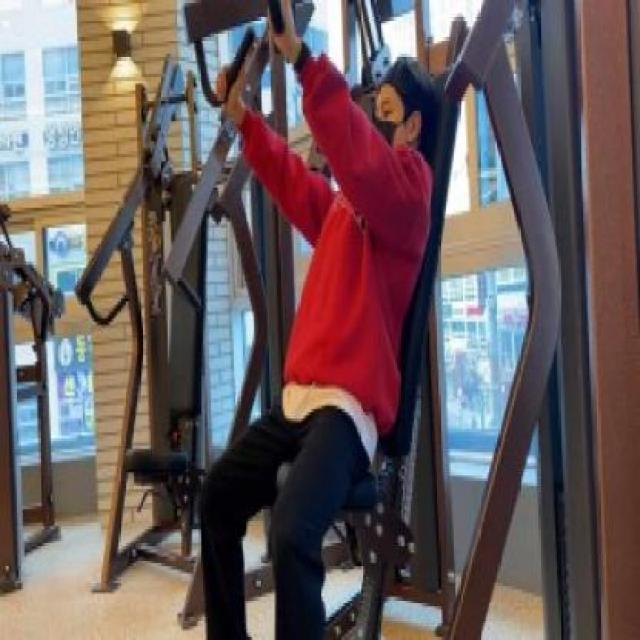Chest Press machine: (146, 4, 558, 640)
